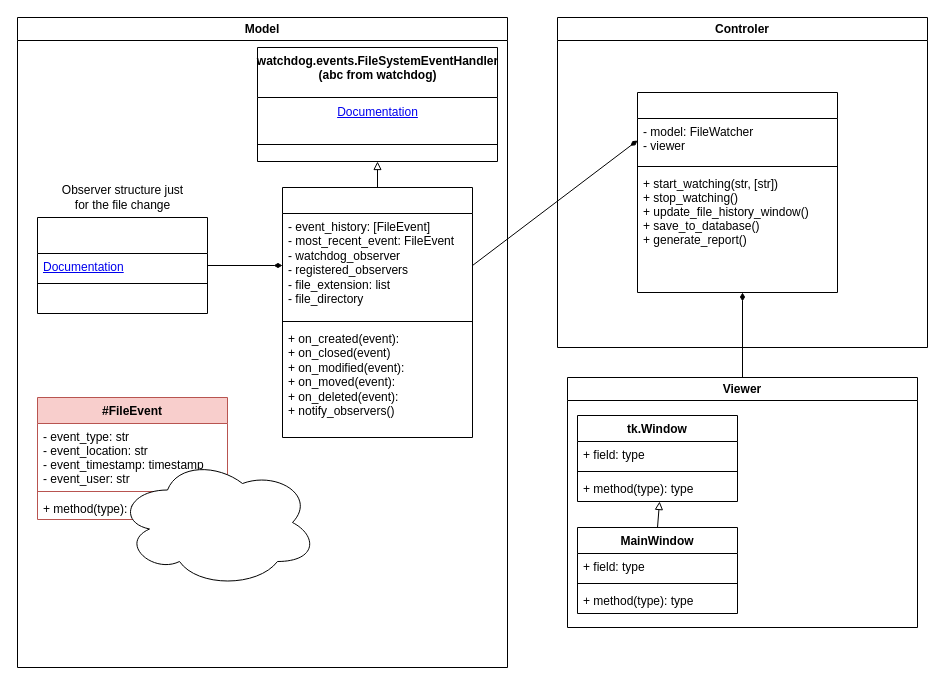
Some shapes in this 945 by 685 pixel diagram are drawn without their labels. Each missing label, with the box of its shape:
#FileWatcher: (282, 186, 472, 438)
#Viewmanager: (636, 92, 838, 292)
watchdog.observer.Observer: (36, 216, 208, 314)
We could probably just managed this with a dictionary: (116, 456, 318, 588)
